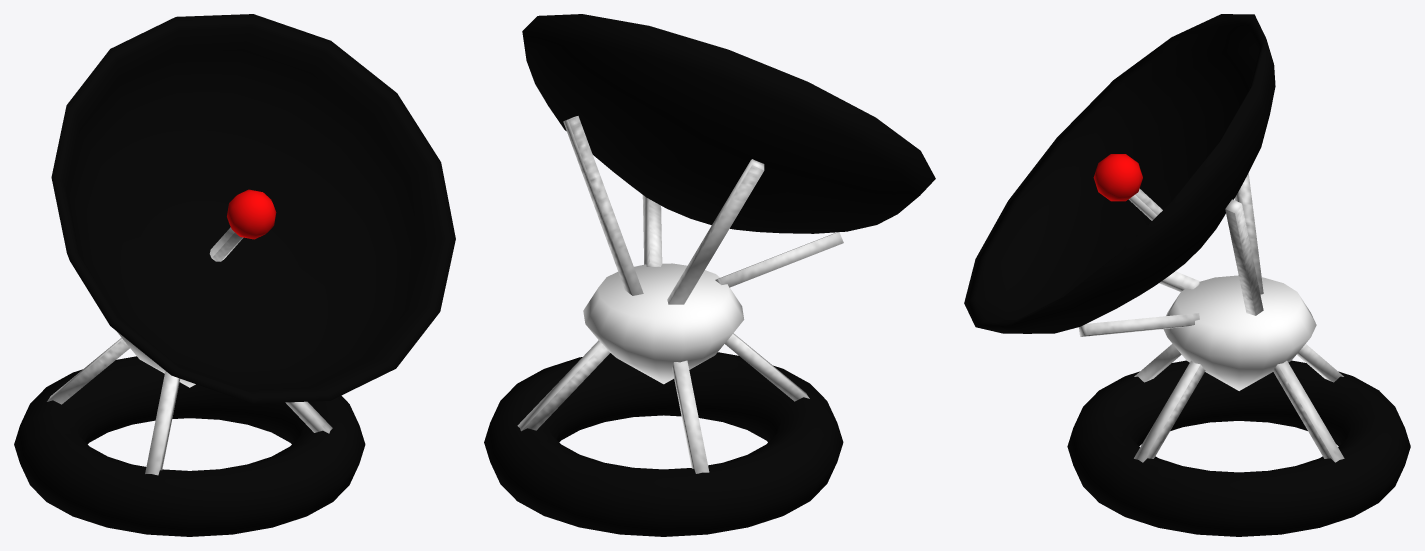
Rendered from Dish.fbx.
3 renders of one model, left to right at view 1: azimuth 30°, elevation 25°; view 2: azimuth 150°, elevation 25°; view 3: azimuth 270°, elevation 25°, orthographic. The views are drawn at different scales.
Visible parts, largest first — view 1: HeadSkin 13; view 2: HeadSkin 13; view 3: HeadSkin 13.
Boxes of the visible parts, x1=… form: HeadSkin 13: x1=14, y1=14, x2=455, y2=536; HeadSkin 13: x1=484, y1=14, x2=935, y2=536; HeadSkin 13: x1=964, y1=14, x2=1410, y2=536.
Size of the model in its own units: 423 by 485 by 447.
